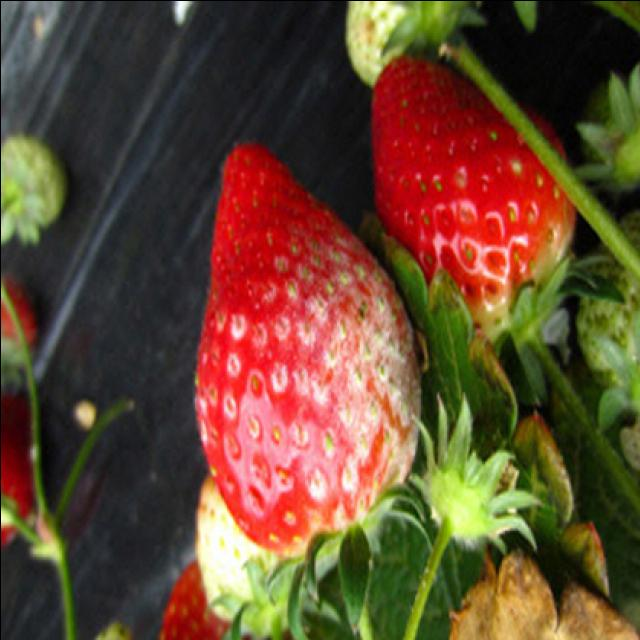Powdery Mildew Fruit: (194, 223, 424, 555)
